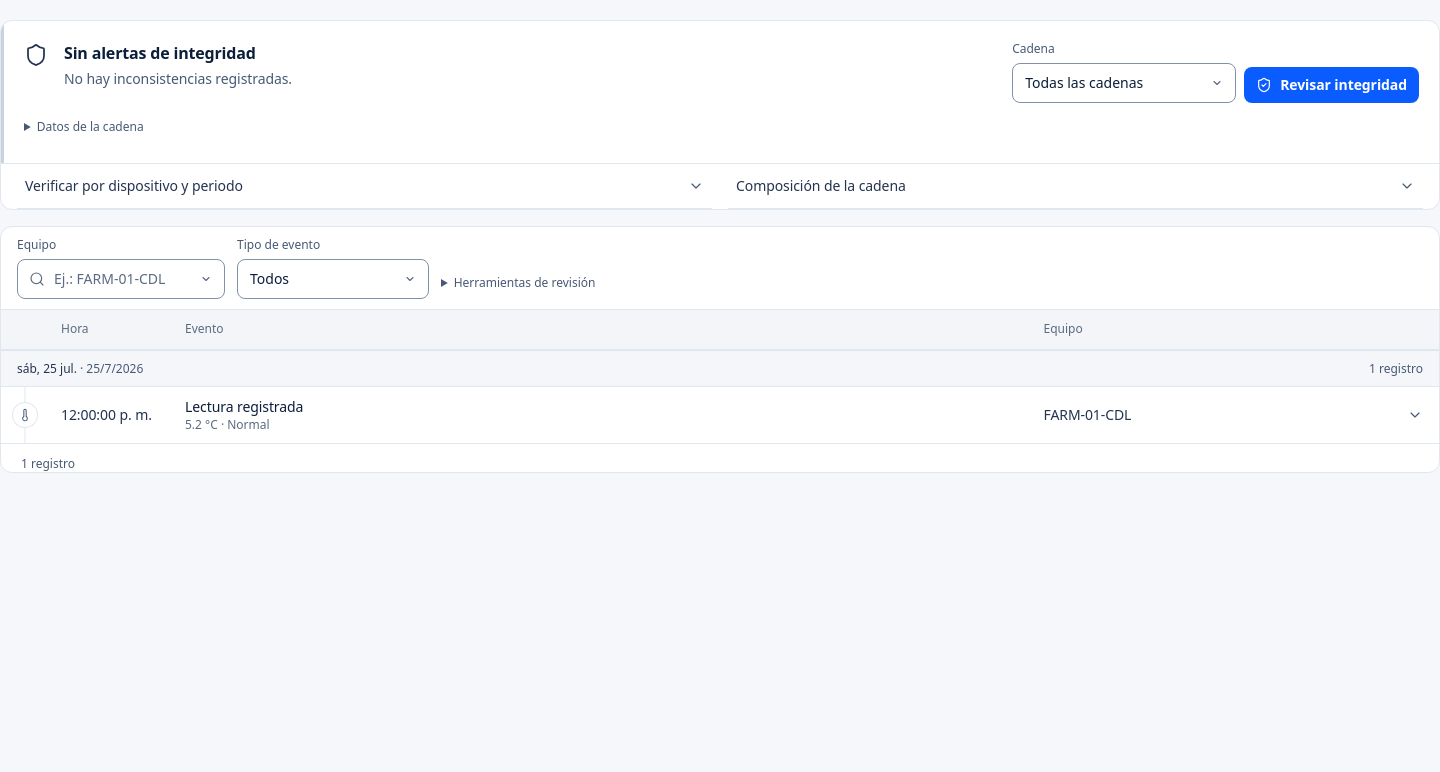
Test case: TrazabilidadPage — rediseño P6 (veredicto y registros) › cada evento muestra su icono y su nombre; el detalle muestra los sellos completos
The width and height of the screenshot is (1440, 772).
Expected: the text "5.2 °C · Normal" is shown, [185,416,270,433]
Step 1. Click the button named "ver detalle de" → (1415, 415), box [1399,399,1431,431]
(page scrolled)
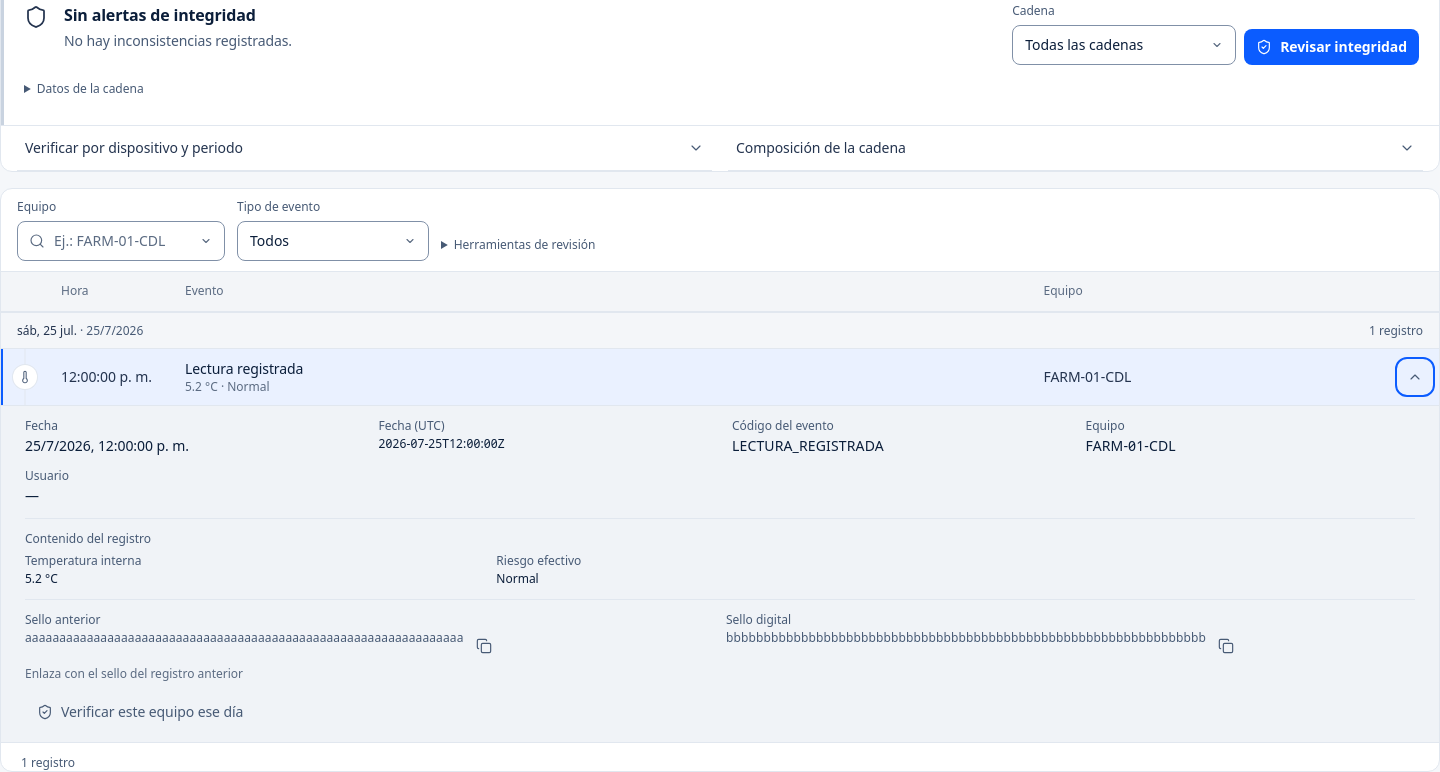
Expected: the row with id "detalle-r-1" shows "contenido del registro", [25,530,151,547]
